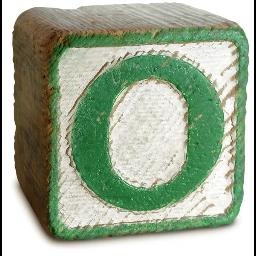o: (64, 40, 236, 232)
